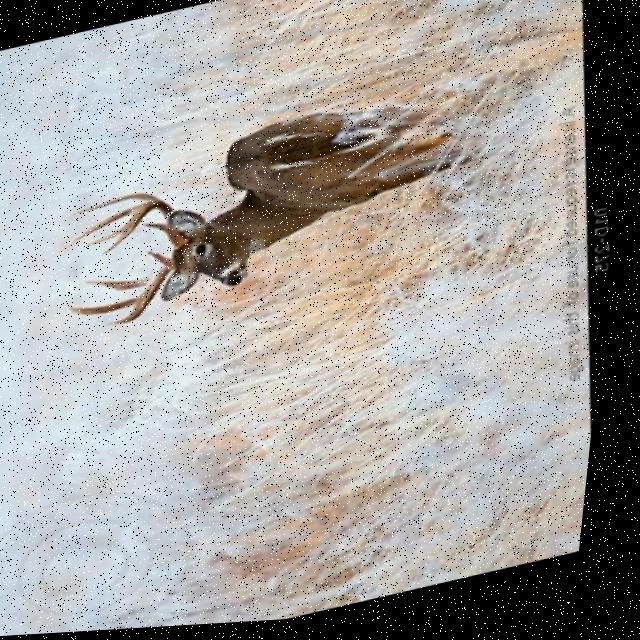E1: (84, 229, 126, 250)
L-F: (110, 260, 179, 328)
L-G1: (150, 251, 176, 268)
L-G2: (82, 278, 160, 293)
L-G3: (71, 297, 146, 318)
R-F: (104, 200, 178, 257)
R-G1: (146, 224, 172, 236)
R-G2: (66, 194, 163, 218)
R-G3: (66, 207, 143, 249)
